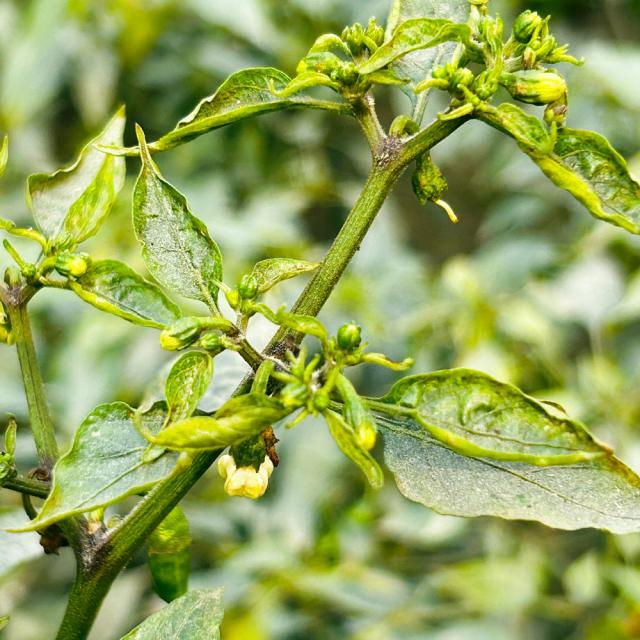Chilli_Leaf_Curl: (1, 2, 638, 636), (363, 366, 639, 535), (4, 398, 187, 538), (128, 122, 224, 315), (150, 65, 354, 152), (23, 102, 128, 256)
